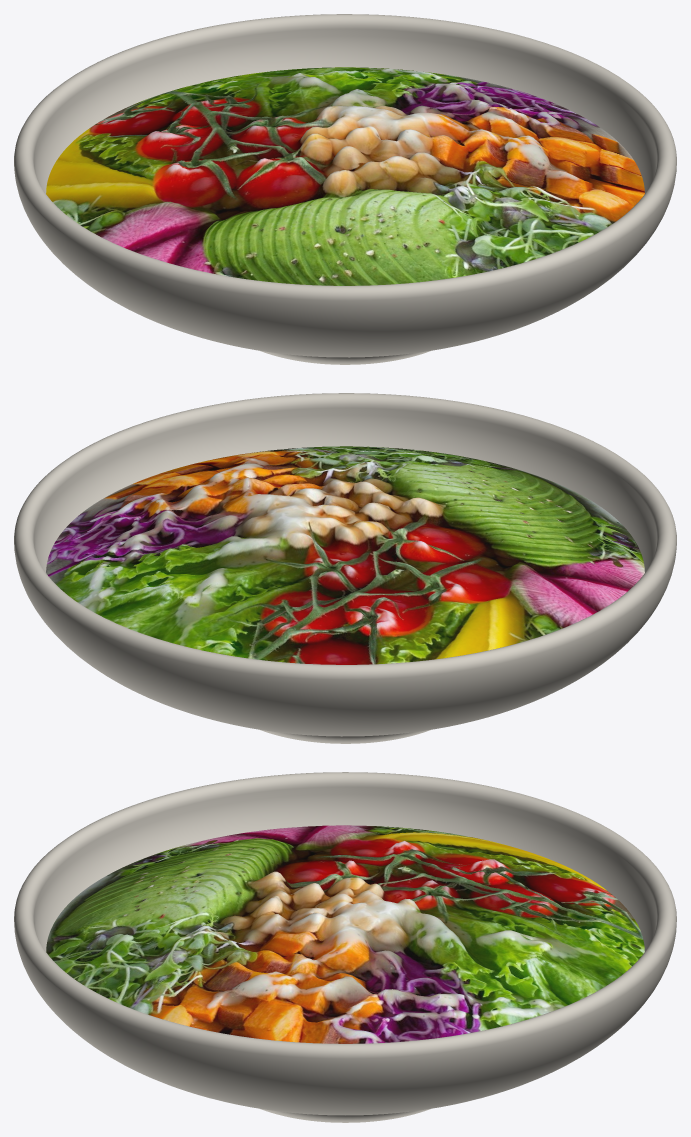
The model's file is bowl.glb.
3 renders of one model, top to bottom at view 1: azimuth 30°, elevation 25°; view 2: azimuth 150°, elevation 25°; view 3: azimuth 270°, elevation 25°, orthographic.
Parts seen in each view (by area): view 1: bowl; view 2: bowl; view 3: bowl.
Part boxes in pixels (x1,y1,x2,y2): bowl: [14, 14, 676, 364]; bowl: [14, 393, 676, 743]; bowl: [14, 772, 676, 1122].
Size of the model in its own units: 2 by 0.5988 by 2.
2 materials, 1 textured.
